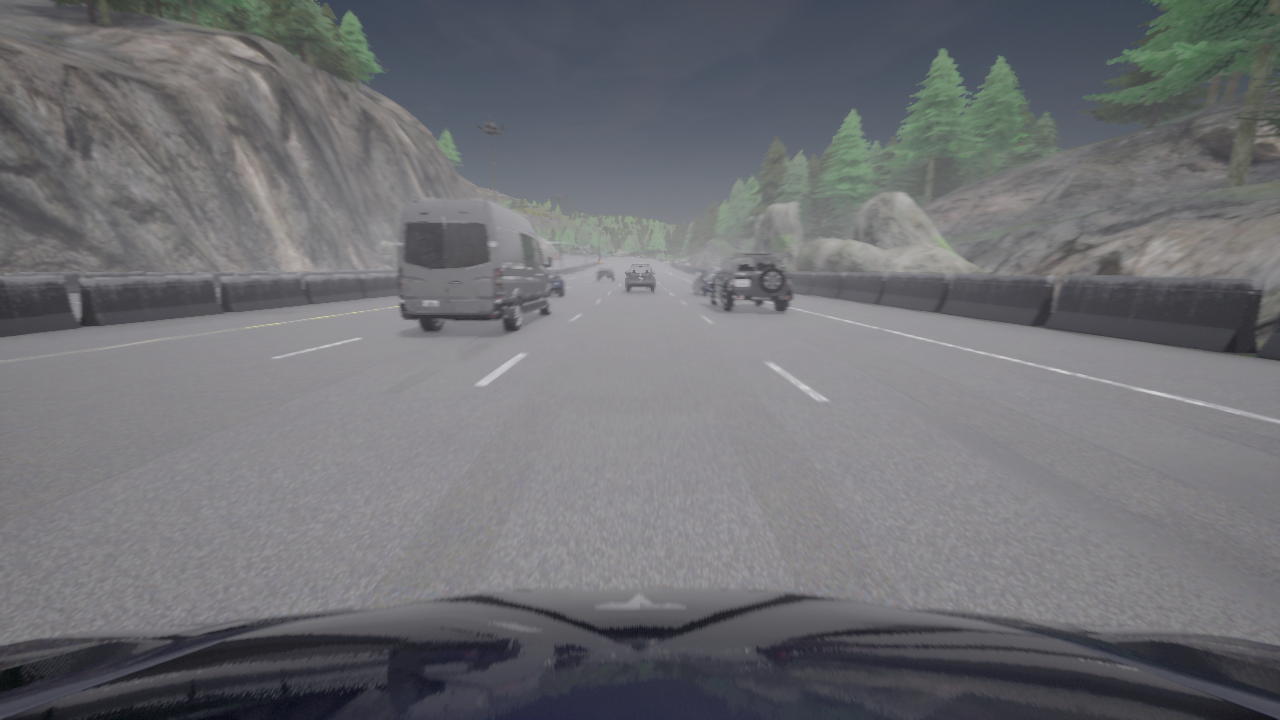cyclist: (0, 588, 1279, 719), (397, 199, 552, 331), (708, 252, 792, 312), (625, 265, 654, 292), (692, 269, 718, 296), (548, 271, 563, 296), (595, 267, 616, 281)
